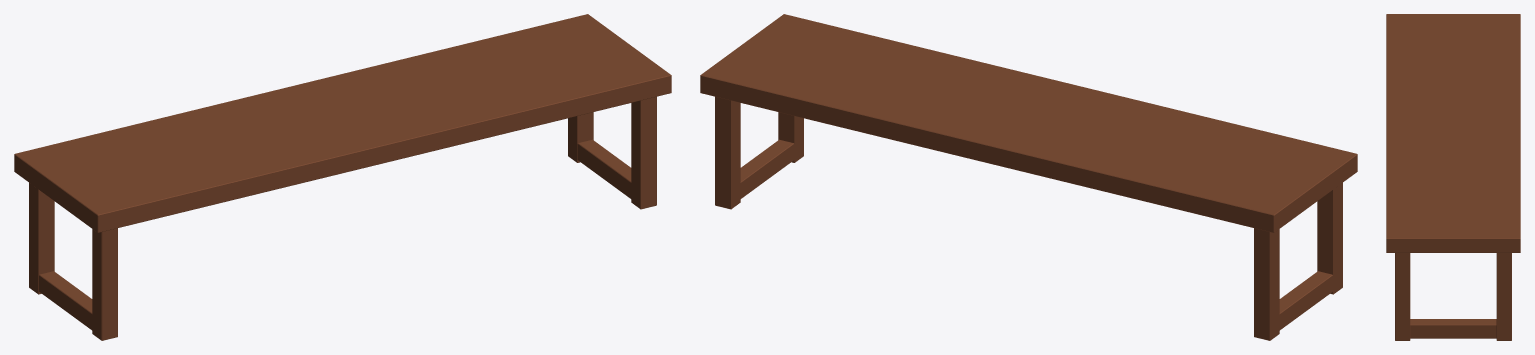
The model's file is WoodKitchenChair1.glb.
3 views of the same model, side by side, from view 1: azimuth 30°, elevation 25°; view 2: azimuth 150°, elevation 25°; view 3: azimuth 270°, elevation 25° (orthographic). The views are drawn at different scales.
Parts seen in each view (by area): view 1: WoodKitchenChair; view 2: WoodKitchenChair; view 3: WoodKitchenChair.
Part boxes in pixels (x1,y1,x2,y2): WoodKitchenChair: (14,14,671,340); WoodKitchenChair: (700,14,1357,340); WoodKitchenChair: (1386,14,1520,340).
Bounding box in the file's own units: 2.25 × 0.4963 × 0.5696.
